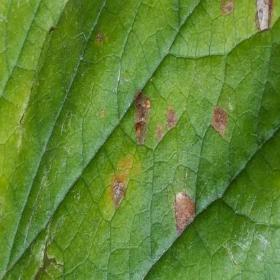Angular Leafspot: (91, 0, 279, 242)
